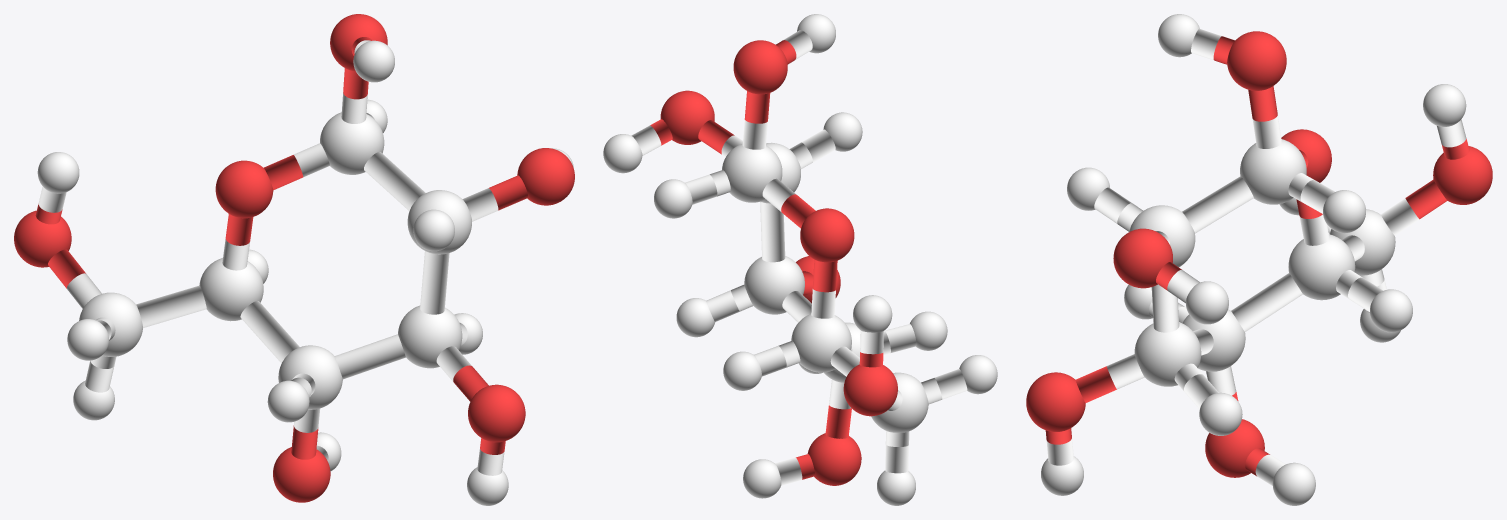
Rendered from molecule_trans.gltf.
The picture shows the model from 3 angles, left to right: view 1: azimuth 30°, elevation 25°; view 2: azimuth 150°, elevation 25°; view 3: azimuth 270°, elevation 25°; orthographic projection. The views are drawn at different scales.
Parts seen in each view (by area): view 1: Object_3, Object_6, Object_4, Object_8, Object_5, Object_7, Object_2; view 2: Object_8, Object_3, Object_6, Object_5, Object_7, Object_4; view 3: Object_3, Object_8, Object_6, Object_5, Object_7, Object_4, Object_2.
Boxes of the visible parts, box(x1,y1,x2,y2) form: Object_3: box(79, 112, 462, 409); Object_6: box(48, 37, 527, 502); Object_4: box(67, 92, 498, 432); Object_8: box(38, 40, 504, 475); Object_5: box(14, 14, 574, 267); Object_7: box(37, 40, 573, 505); Object_2: box(364, 152, 425, 211); Object_8: box(631, 30, 997, 485); Object_3: box(722, 143, 928, 446); Object_6: box(650, 40, 861, 485); Object_5: box(660, 40, 897, 416); Object_7: box(603, 14, 915, 505); Object_4: box(710, 120, 942, 410); Object_3: box(1134, 139, 1395, 390); Object_8: box(1046, 28, 1466, 485); Object_6: box(1026, 36, 1447, 477); Object_5: box(1113, 31, 1492, 288); Object_7: box(1041, 14, 1466, 505); Object_4: box(1107, 114, 1419, 395); Object_2: box(1182, 176, 1253, 233).
Bounding box in the file's own units: 6.38 × 6.28 × 5.45.
